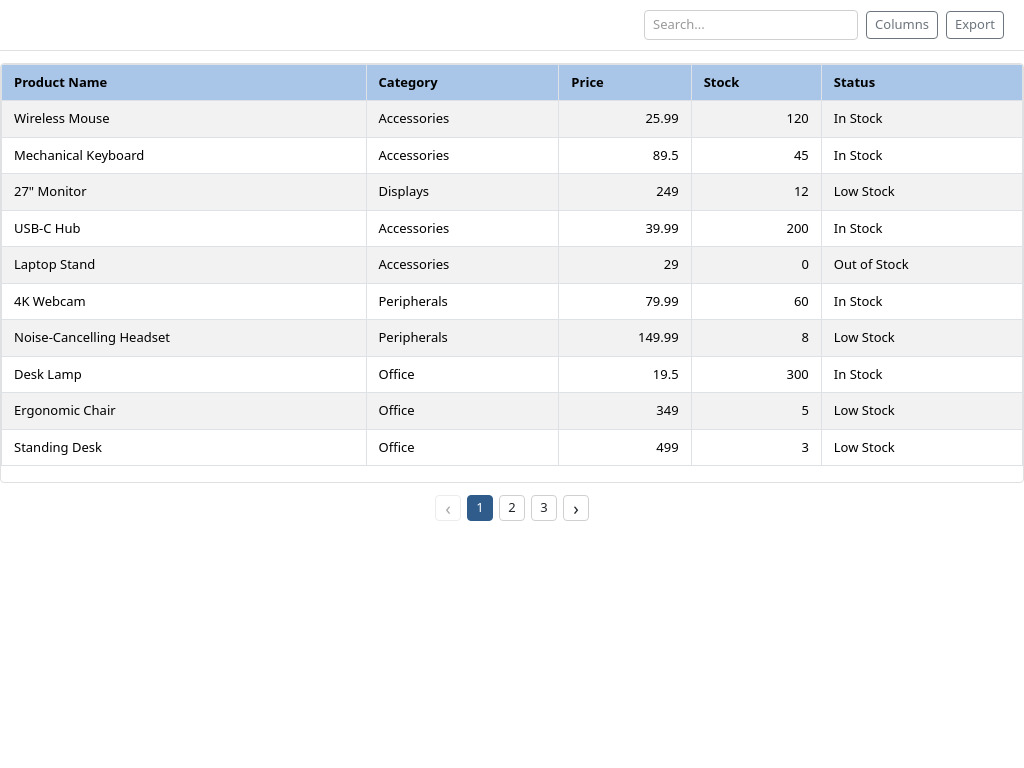
Test case: DataTableComponent › selects the first available format by default, with an icon shown for each format radio
Click the button "Export" at (975, 25), box [946,11,1004,39]
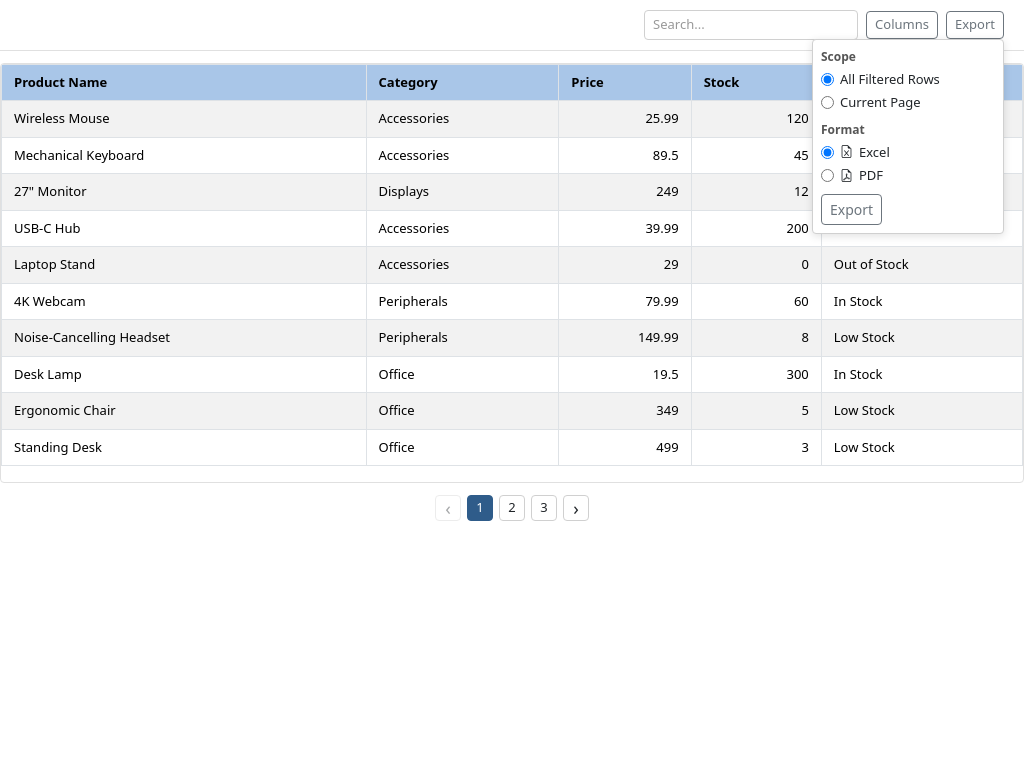
Expected: the radio button labelled "Excel" is checked, [821,146,834,159]
Expected: the number of icons is 2, [840,143,853,162]; [840,166,853,186]
